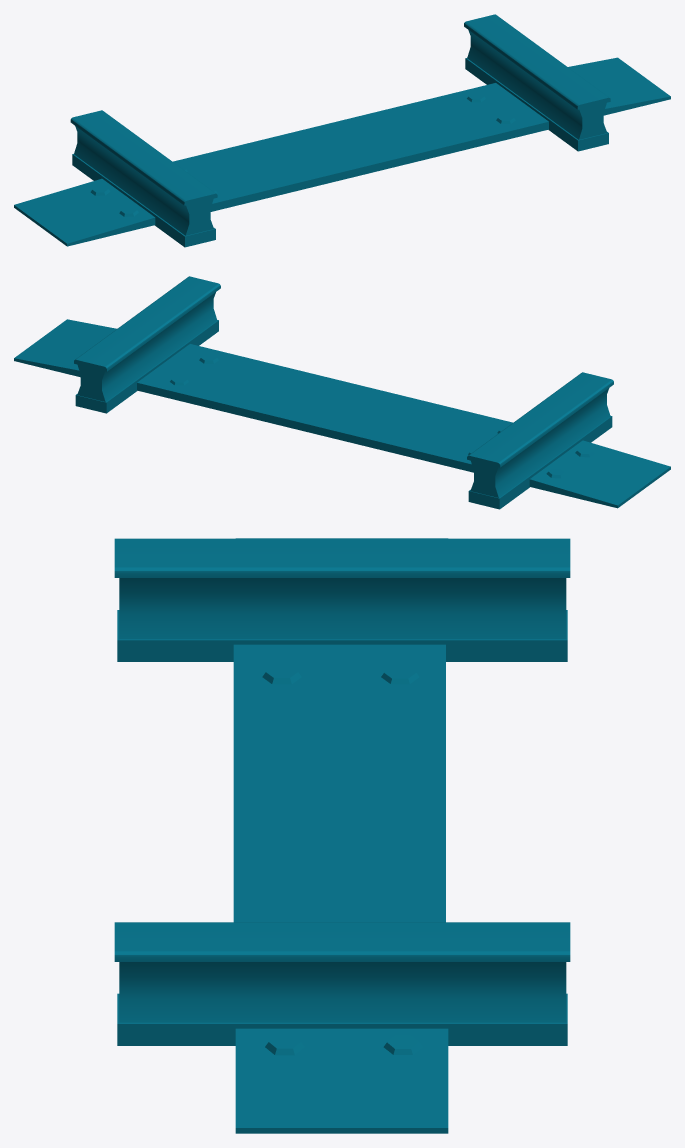
Rendered from Mini rail.fbx.
3 renders of one model, top to bottom at view 1: azimuth 30°, elevation 25°; view 2: azimuth 150°, elevation 25°; view 3: azimuth 270°, elevation 25°, orthographic. The views are drawn at different scales.
Parts seen in each view (by area): view 1: polySurface652; view 2: polySurface652; view 3: polySurface652.
Part boxes in pixels (x1,y1,x2,y2): polySurface652: (14, 14, 670, 247); polySurface652: (14, 276, 670, 509); polySurface652: (114, 538, 570, 1133).
Size of the model in its own units: 3.88 by 0.2883 by 1.27.
